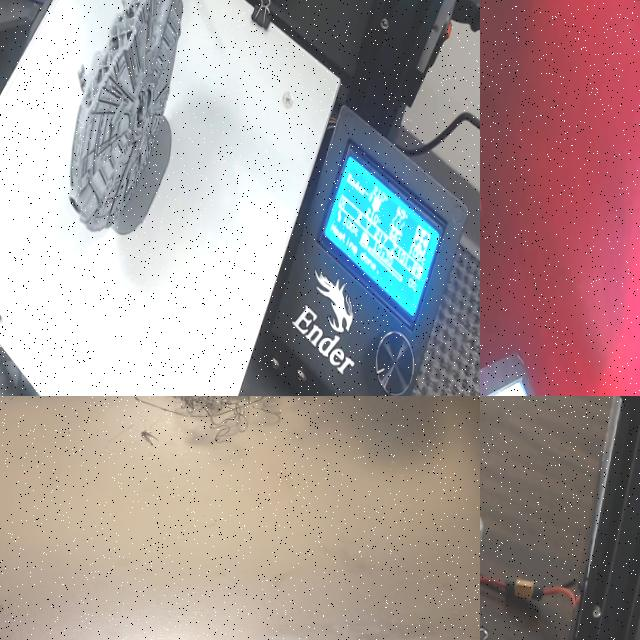spaghetti: (134, 396, 286, 445), (123, 426, 167, 452)
